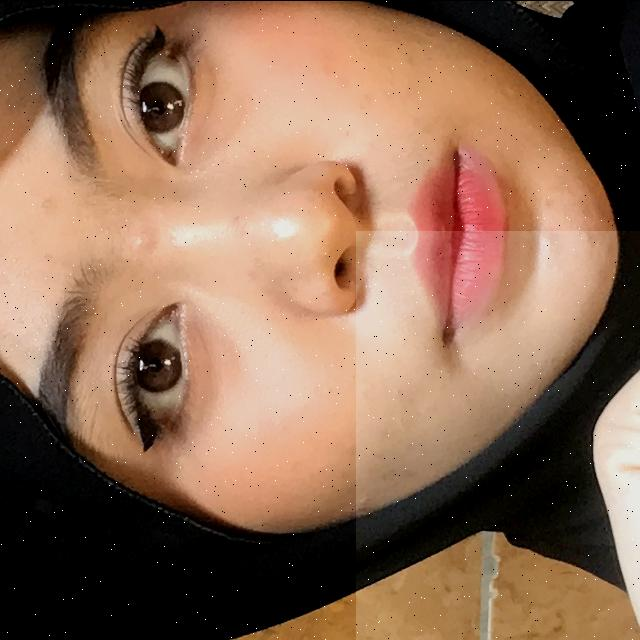sedih: (356, 230, 640, 640)
